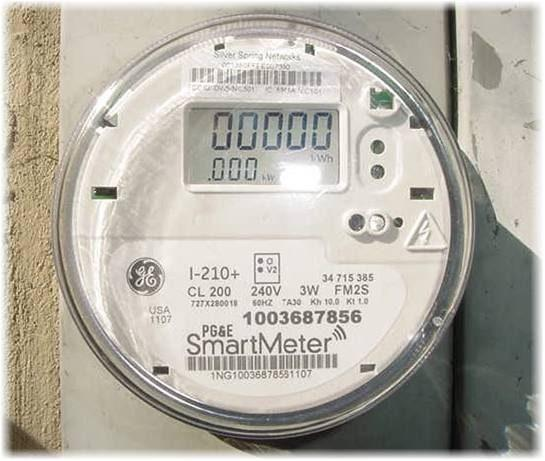.: (303, 151, 337, 170), (303, 152, 337, 167)
1: (306, 109, 336, 150), (208, 109, 235, 152), (284, 111, 312, 152), (236, 111, 261, 153), (263, 111, 282, 147)
